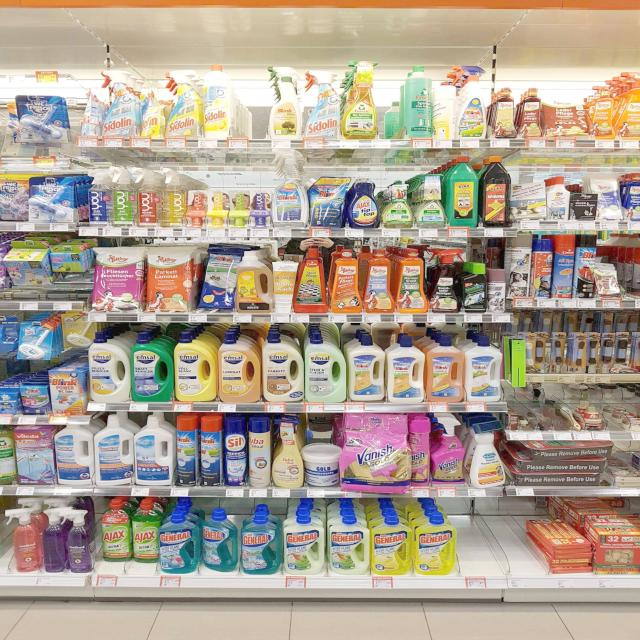empty_space: (452, 513, 491, 575), (496, 516, 536, 573), (250, 95, 266, 137)
